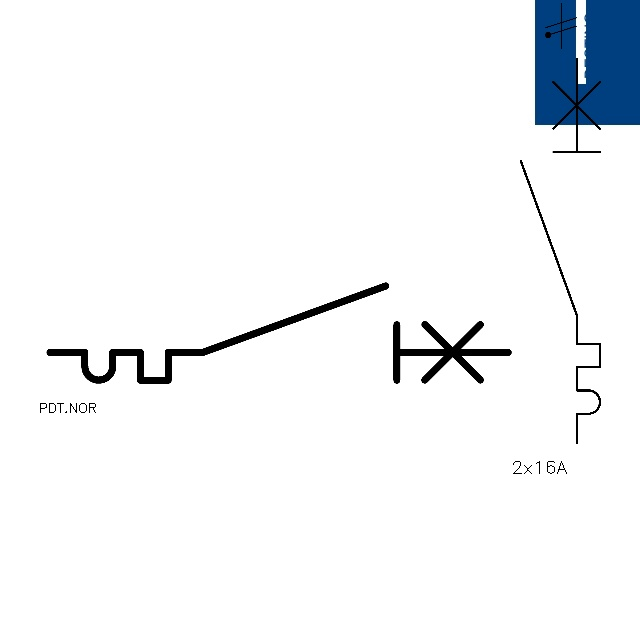interruptor_termomagnetico: (38, 274, 520, 392), (511, 48, 610, 452)
